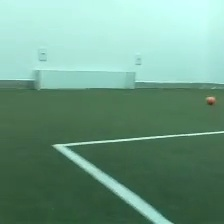ball: (205, 94, 216, 105)
goal: (32, 66, 139, 91)
